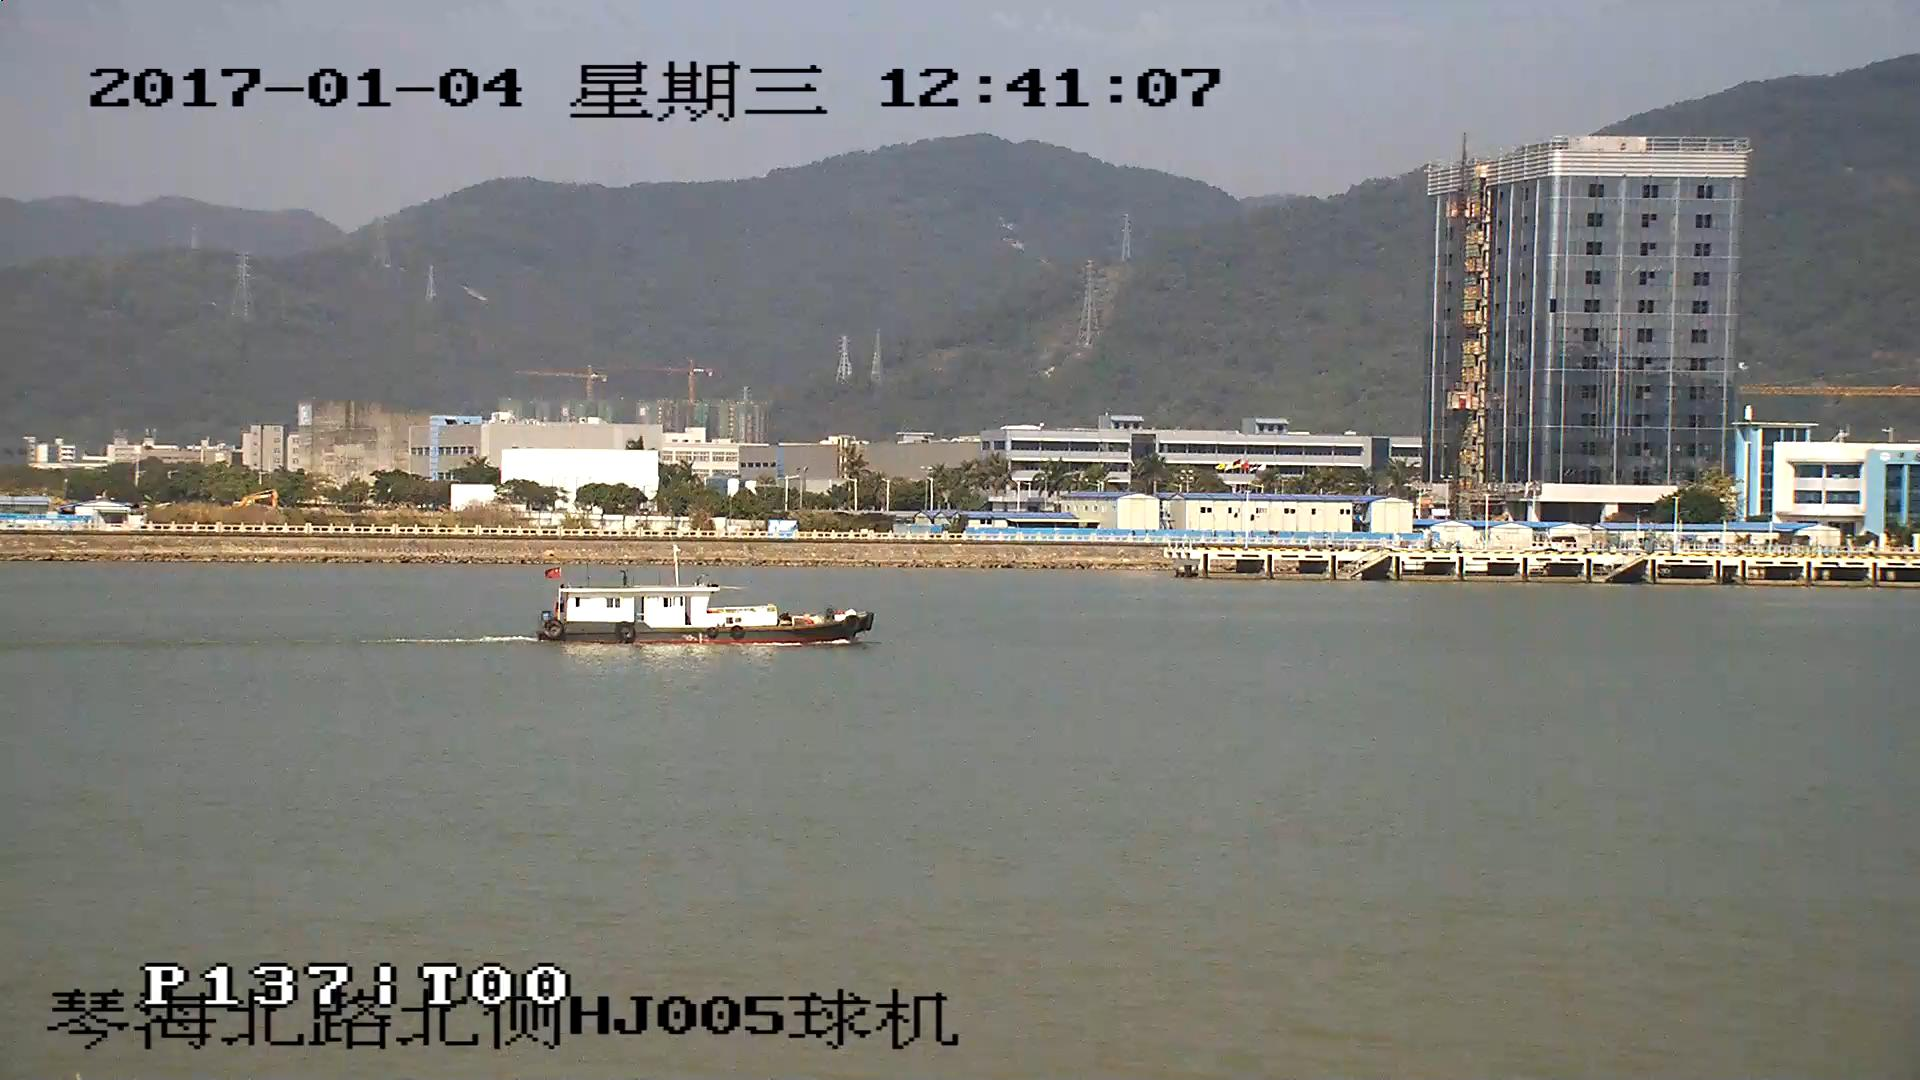fishing boat: (543, 568, 872, 645)
